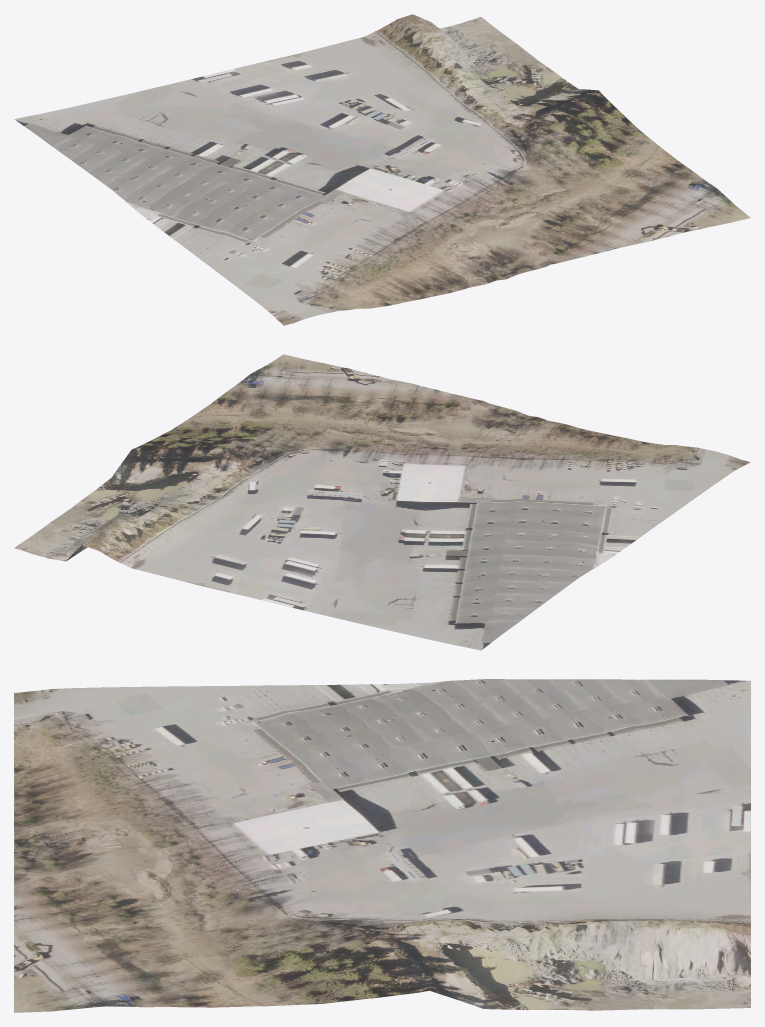
The model's file is CM_Terrain_24493121_6815903.fbx.
3 views of the same model, one above another, from view 1: azimuth 30°, elevation 25°; view 2: azimuth 150°, elevation 25°; view 3: azimuth 270°, elevation 25° (orthographic). The views are drawn at different scales.
Parts seen in each view (by area): view 1: CM_Terrain_24493121_6815903_LOD0; view 2: CM_Terrain_24493121_6815903_LOD0; view 3: CM_Terrain_24493121_6815903_LOD0.
Boxes of the visible parts, x1,y1,x2,y2 form: CM_Terrain_24493121_6815903_LOD0: (14, 14, 750, 325); CM_Terrain_24493121_6815903_LOD0: (14, 354, 750, 650); CM_Terrain_24493121_6815903_LOD0: (14, 679, 750, 1012).
Size of what is drawn, in the model's own units: 205 by 12.69 by 205.
